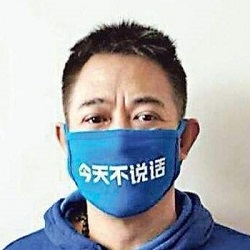mask: (57, 123, 185, 217)
